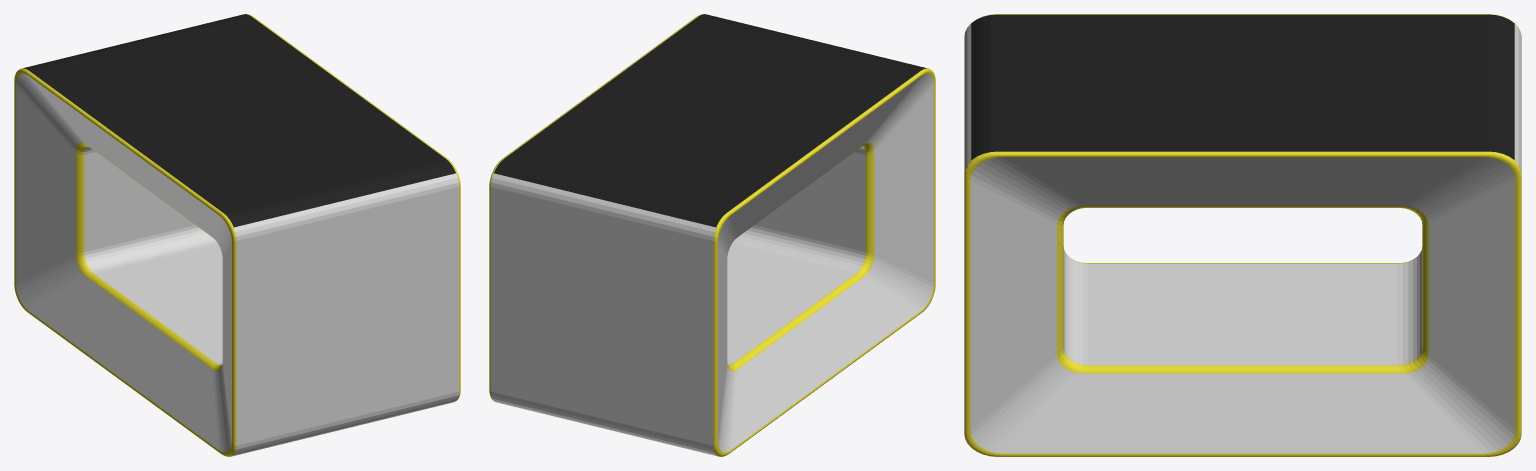
Rendered from Table 1.fbx.
3 views of the same model, side by side, from view 1: azimuth 30°, elevation 25°; view 2: azimuth 150°, elevation 25°; view 3: azimuth 270°, elevation 25° (orthographic). The views are drawn at different scales.
Parts seen in each view (by area): view 1: Cube; view 2: Cube; view 3: Cube.
Part boxes in pixels (x1=…): Cube: x1=14, y1=14, x2=460, y2=456; Cube: x1=489, y1=14, x2=935, y2=456; Cube: x1=964, y1=14, x2=1521, y2=456.
Size of the model in its own units: 253 by 256 by 424.
